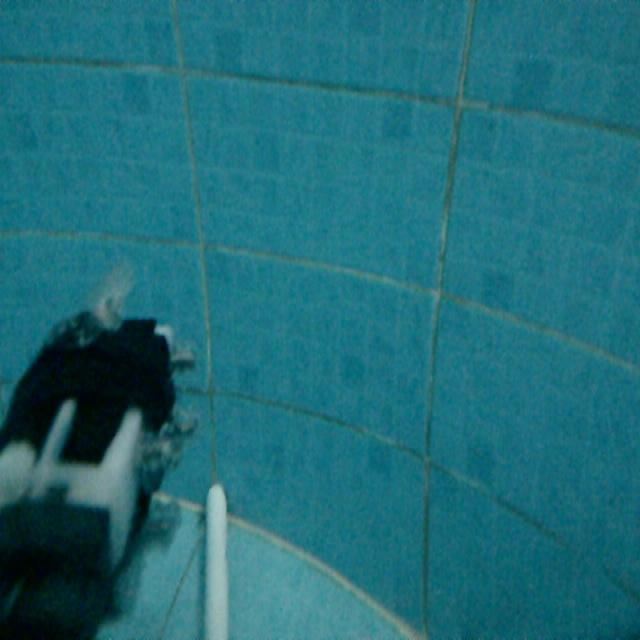Cube: (199, 478, 233, 638)
